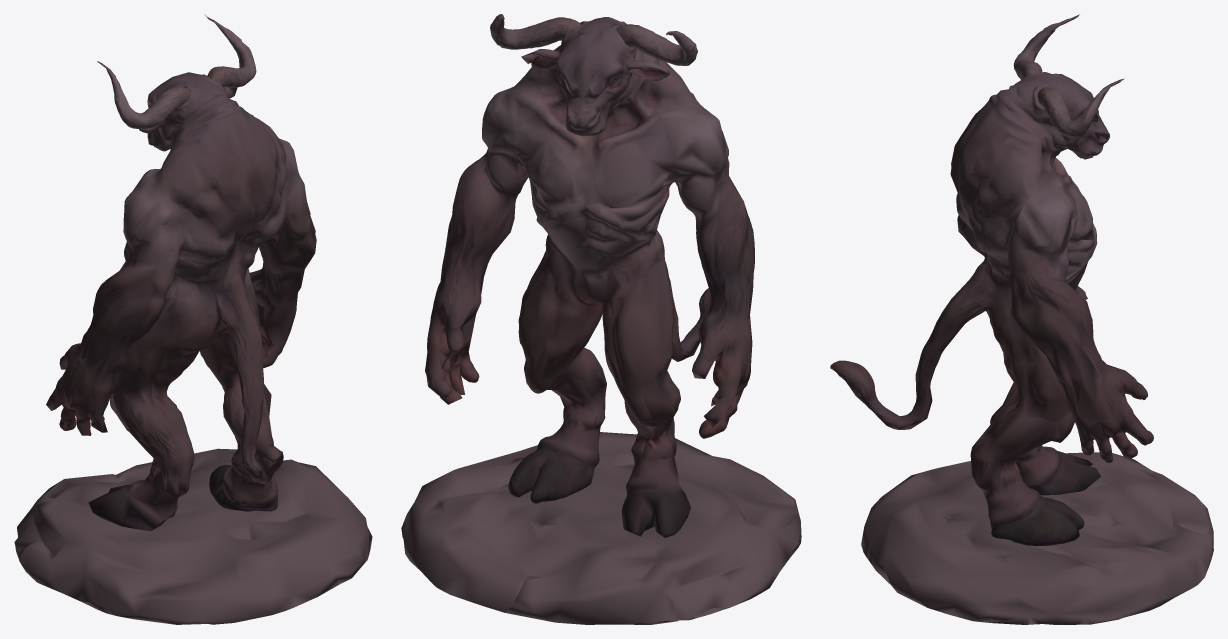
The picture shows the model from 3 angles, left to right: view 1: azimuth 30°, elevation 25°; view 2: azimuth 150°, elevation 25°; view 3: azimuth 270°, elevation 25°; orthographic projection. The views are drawn at different scales.
Parts seen in each view (by area): view 1: minotaur43, Base, Chifre; view 2: minotaur43, Base, Chifre; view 3: minotaur43, Base, Chifre.
Boxes of the visible parts, x1,y1,x2,y2 form: minotaur43: (46,72,316,531); Base: (14,448,372,624); Chifre: (97,14,256,129); minotaur43: (425,17,754,537); Base: (401,432,801,624); Chifre: (490,14,697,65); minotaur43: (830,72,1153,546); Base: (861,452,1213,624); Chifre: (1013,14,1124,137).
Size of the model in its own units: 10.17 by 15.5 by 10.83.
